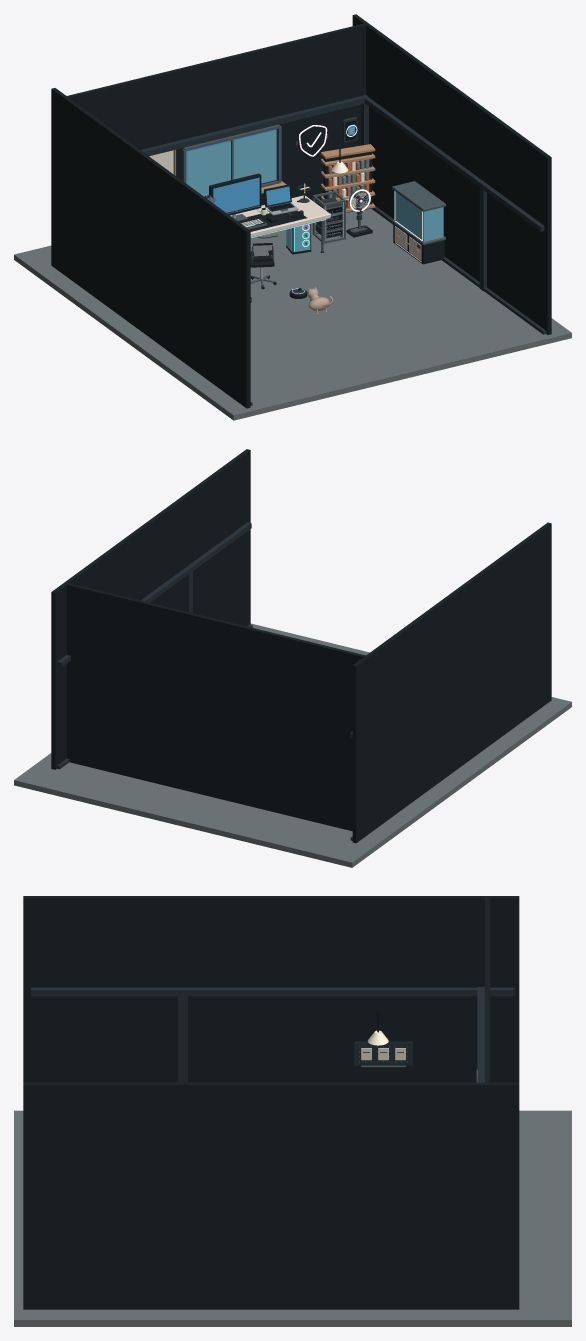
File: tate-workstation.glb
3 renders of one model, top to bottom at view 1: azimuth 30°, elevation 25°; view 2: azimuth 150°, elevation 25°; view 3: azimuth 270°, elevation 25°, orthographic. The views are drawn at different scales.
Visible parts, largest first — view 1: Tiled lab floor, Left wall, Right wall, Back wall, Window glass reflection, Back ceiling beam, Side ceiling rail, Aquarium glass panel (×2), Display, Ash veneer desktop, Aquarium hood, Front architectural pier (+4 smaller); view 2: Back wall, Left wall, Right wall, Tiled lab floor, Side ceiling rail; view 3: Right wall, Left wall, Tiled lab floor, Side ceiling rail, Back wall, Evidence rail backing, Front architectural pier, Back ceiling beam.
Boxes of the visible parts, x1,y1,x2,y2 form: Tiled lab floor: [14, 209, 571, 420]; Left wall: [51, 88, 250, 408]; Right wall: [352, 14, 551, 334]; Back wall: [63, 22, 368, 205]; Window glass reflection: [187, 130, 276, 196]; Back ceiling beam: [141, 95, 368, 156]; Side ceiling rail: [364, 97, 544, 231]; Aquarium glass panel (×2): [394, 191, 443, 241]; Display: [213, 177, 259, 212]; Ash veneer desktop: [230, 195, 330, 236]; Aquarium hood: [392, 181, 445, 211]; Front architectural pier: [479, 188, 486, 291]; Back wall: [64, 582, 369, 831]; Left wall: [352, 522, 551, 843]; Right wall: [51, 449, 250, 769]; Tiled lab floor: [14, 623, 571, 867]; Side ceiling rail: [57, 522, 251, 667]; Right wall: [23, 1082, 519, 1309]; Left wall: [23, 896, 519, 1082]; Tiled lab floor: [14, 1110, 571, 1326]; Side ceiling rail: [31, 987, 514, 996]; Back wall: [485, 896, 490, 1084]; Evidence rail backing: [354, 1041, 412, 1065]; Front architectural pier: [178, 996, 187, 1082]; Back ceiling beam: [477, 987, 484, 1082].
Bounding box in the file's own units: 16 × 8.24 × 18.
